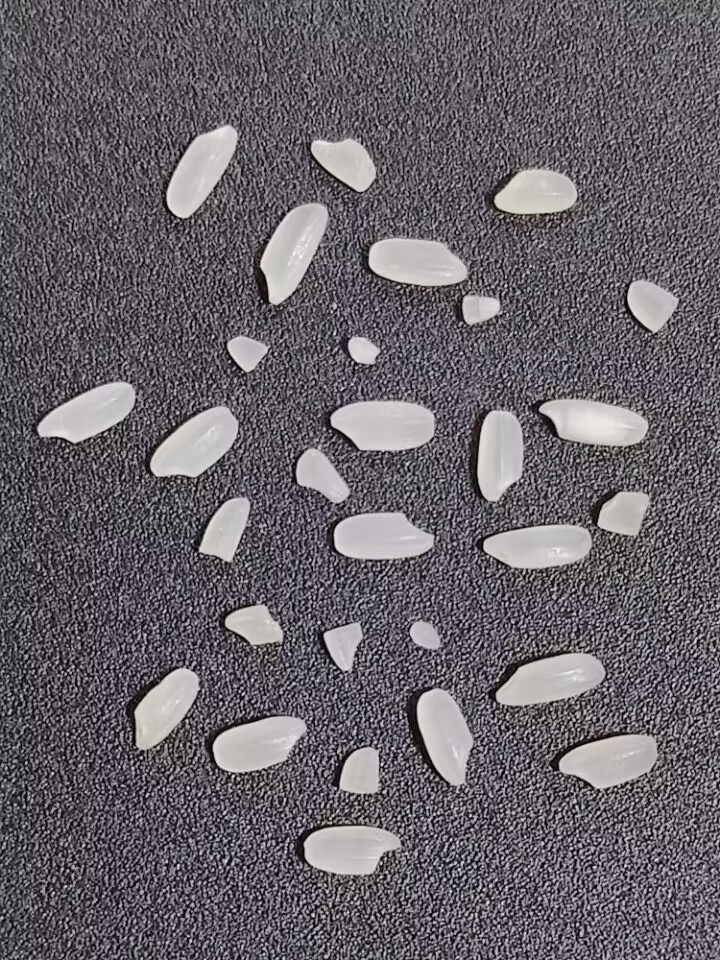broken: (309, 137, 379, 194), (199, 495, 252, 565), (294, 447, 349, 503), (626, 277, 679, 335), (335, 743, 390, 796), (224, 601, 285, 648), (321, 619, 367, 676), (597, 491, 650, 536), (222, 334, 270, 374), (456, 289, 502, 330), (405, 617, 446, 654), (345, 334, 382, 366)
rice: (257, 199, 330, 306), (163, 122, 241, 220), (148, 402, 240, 482), (490, 649, 610, 708), (413, 685, 478, 792), (37, 379, 139, 444), (557, 730, 659, 793), (362, 234, 473, 290), (132, 666, 201, 753), (212, 713, 308, 774), (537, 397, 649, 447), (330, 400, 435, 452), (303, 824, 403, 875), (481, 524, 593, 569), (334, 512, 435, 560), (474, 409, 525, 503), (492, 169, 579, 215)
